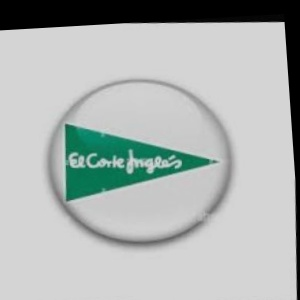corte_ingles: (137, 86, 230, 208)
